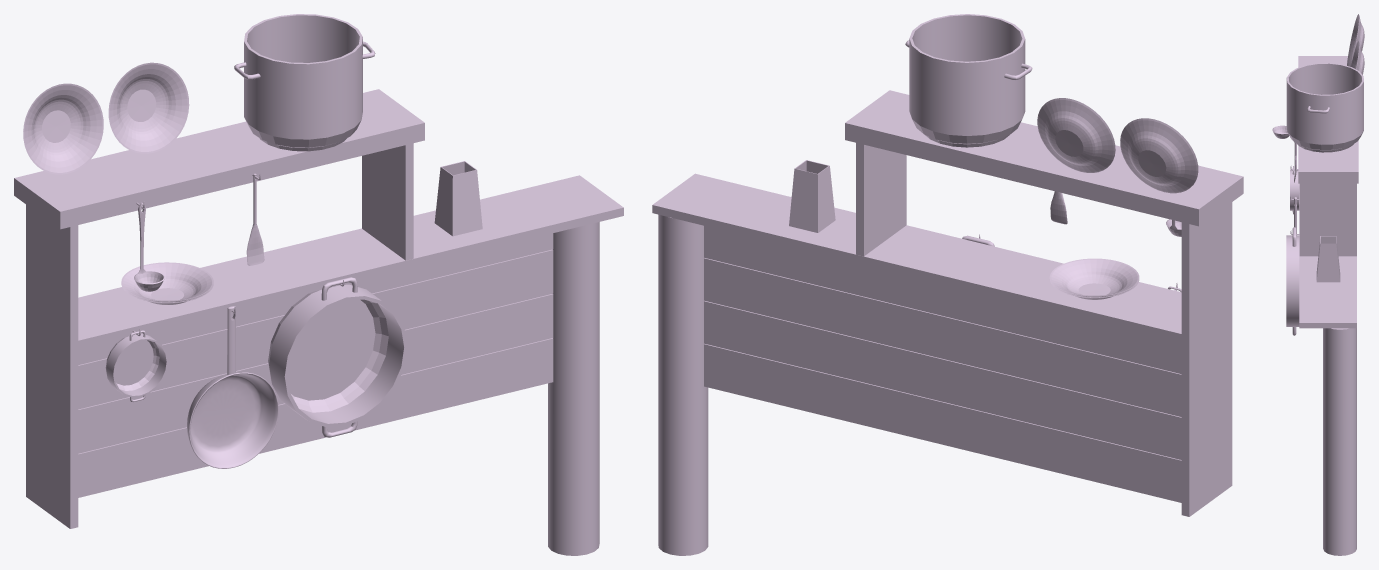
Rendered from alacena.fbx.
3 views of the same model, side by side, from view 1: azimuth 30°, elevation 25°; view 2: azimuth 150°, elevation 25°; view 3: azimuth 270°, elevation 25° (orthographic). The views are drawn at different scales.
Visible parts, largest first — view 1: alacena; view 2: alacena; view 3: alacena.
Boxes of the visible parts, <box> form: alacena: <box>14,14,623,555</box>; alacena: <box>652,14,1243,555</box>; alacena: <box>1272,14,1364,555</box>.
Size of the model in its own units: 3.42 by 3.35 by 0.7387.
